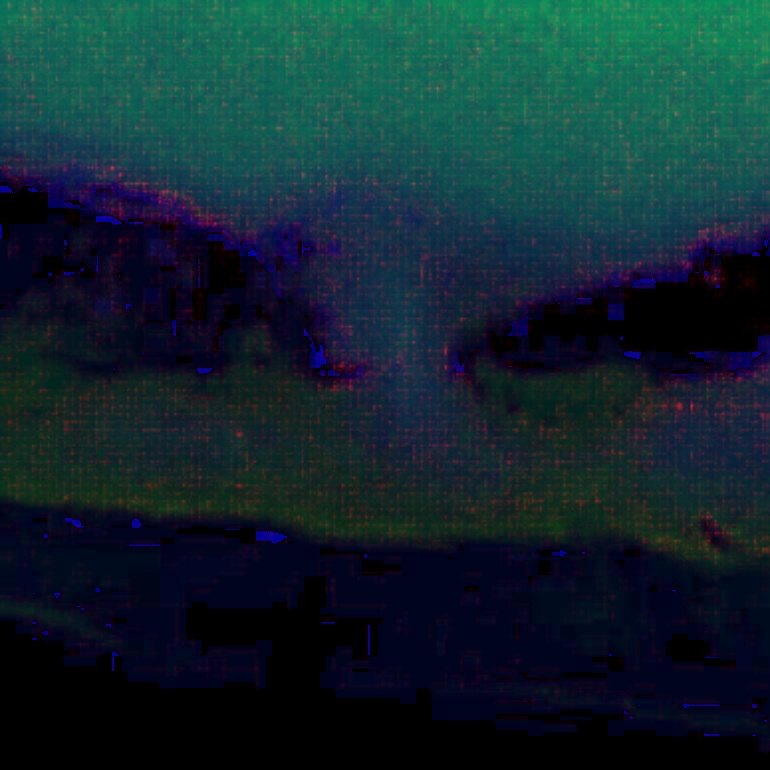rip_current: (263, 130, 531, 476)
